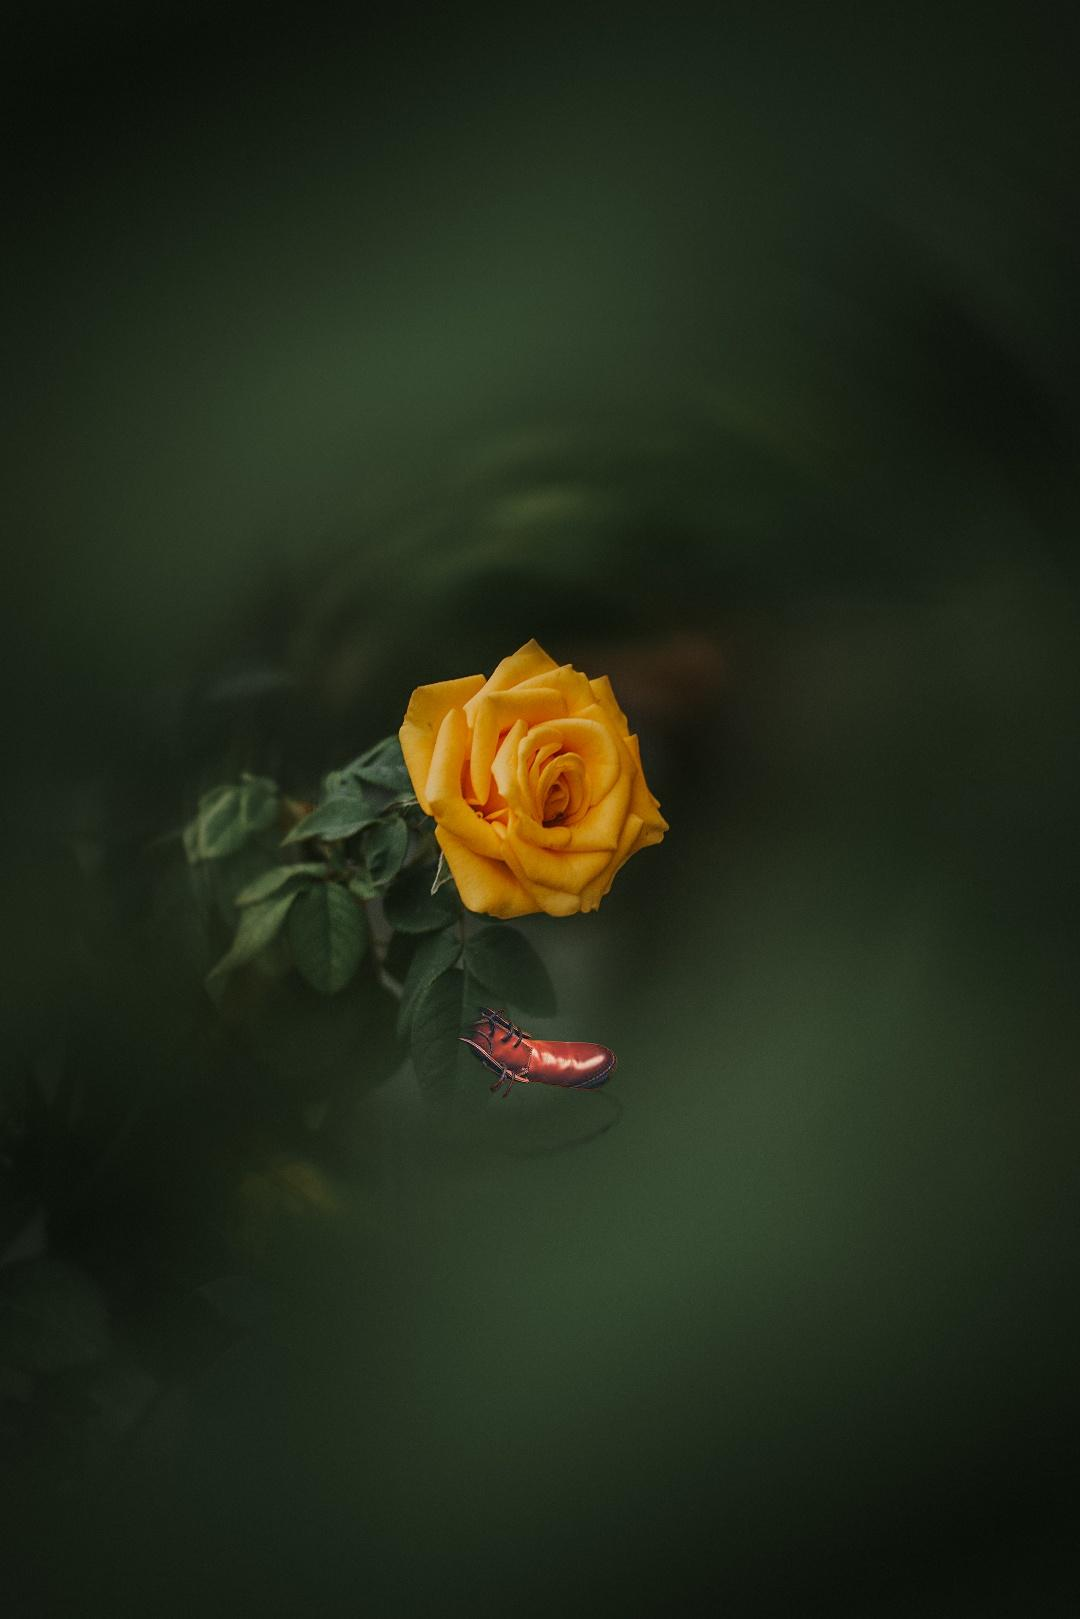shoes: (436, 996, 626, 1163)
